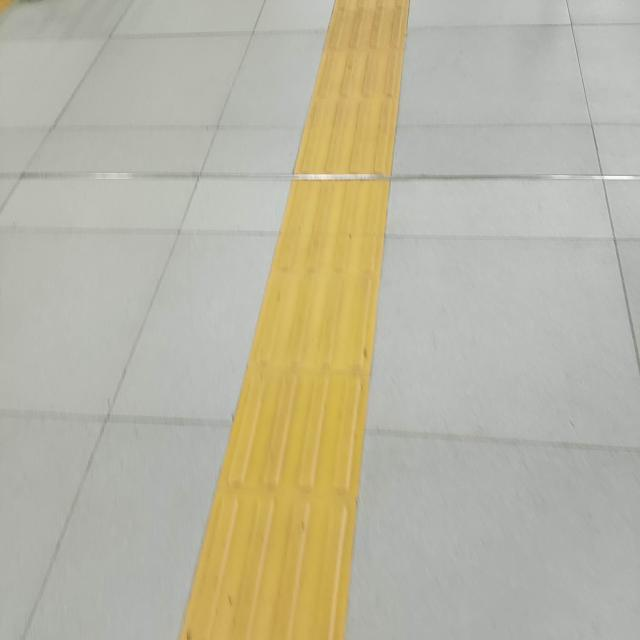lurus: (208, 44, 386, 640)
